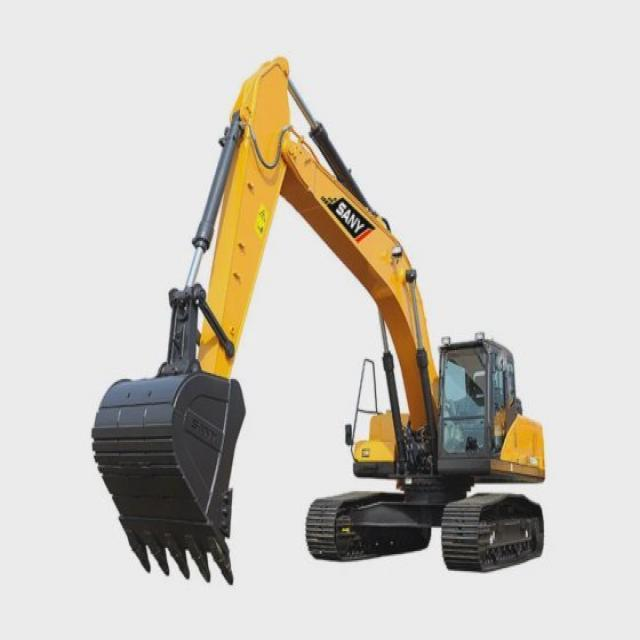C_E: (88, 55, 550, 588)
